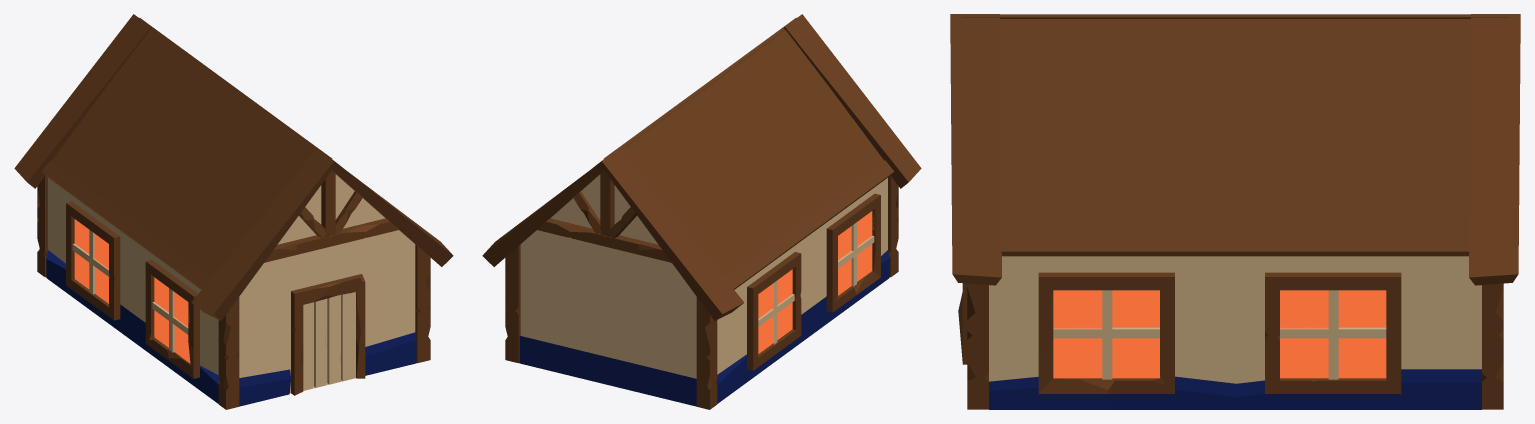
Rendered from House.glb.
The picture shows the model from 3 angles, left to right: view 1: azimuth 30°, elevation 25°; view 2: azimuth 150°, elevation 25°; view 3: azimuth 270°, elevation 25°; orthographic projection. The views are drawn at different scales.
Visible parts, largest first — view 1: Plane.011, Plane, Plane.001, Plane.012, Plane.007, Plane.004, Plane.006, Plane.005, Plane.008, Plane.010, Plane.002, Plane.009 (+1 smaller); view 2: Plane.011, Plane, Plane.001, Plane.012, Plane.007, Plane.004, Plane.008, Plane.010, Plane.002, Plane.009, Plane.003; view 3: Plane.011, Plane, Plane.001, Plane.008, Plane.007, Plane.012, Plane.010, Plane.004, Plane.009, Plane.005.
Part boxes in pixels (x1,y1,x2,y2): Plane.011: [51, 18, 332, 277]; Plane: [48, 174, 415, 393]; Plane.001: [14, 14, 453, 320]; Plane.012: [46, 250, 416, 406]; Plane.007: [66, 201, 199, 378]; Plane.004: [37, 175, 430, 409]; Plane.006: [303, 292, 355, 390]; Plane.005: [291, 274, 365, 395]; Plane.008: [74, 219, 190, 363]; Plane.010: [41, 160, 210, 289]; Plane.002: [264, 170, 398, 262]; Plane.009: [72, 230, 188, 352]; Plane.011: [603, 18, 884, 277]; Plane: [520, 174, 887, 378]; Plane.001: [482, 14, 921, 320]; Plane.012: [519, 250, 889, 406]; Plane.007: [747, 193, 880, 370]; Plane.004: [505, 175, 898, 409]; Plane.008: [758, 211, 873, 353]; Plane.010: [725, 160, 894, 289]; Plane.002: [537, 170, 671, 262]; Plane.009: [758, 222, 874, 344]; Plane.003: [573, 191, 636, 238]; Plane.011: [962, 14, 1508, 231]; Plane: [989, 256, 1481, 383]; Plane.001: [950, 14, 1520, 285]; Plane.008: [1053, 290, 1386, 378]; Plane.007: [1038, 272, 1401, 393]; Plane.012: [989, 369, 1481, 409]; Plane.010: [1001, 232, 1469, 256]; Plane.004: [967, 283, 1503, 409]; Plane.009: [1053, 290, 1386, 379]; Plane.005: [958, 283, 967, 364].
Size of the model in its own units: 5.49 by 4.83 by 7.65.
